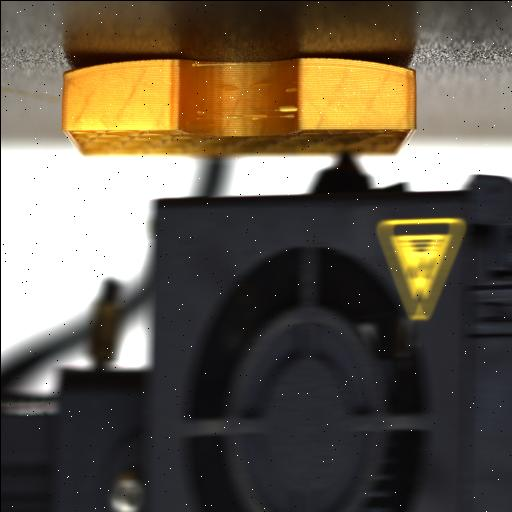warp: (347, 50, 420, 98), (61, 54, 112, 92)
